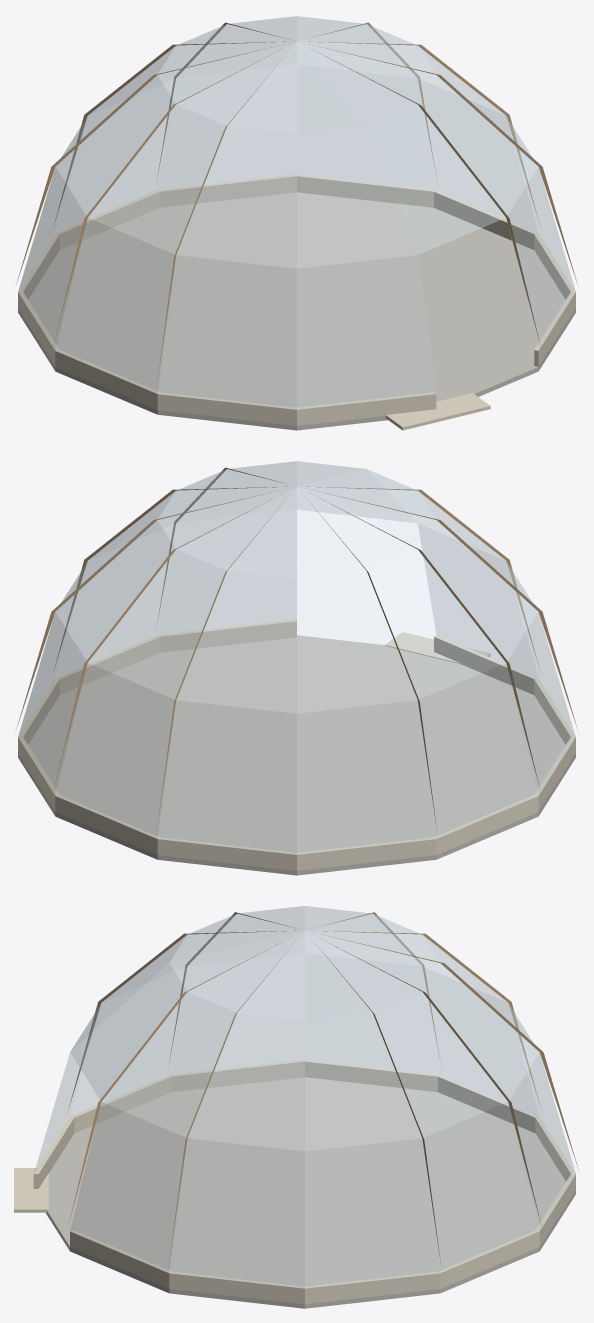
File: tropical-dome.lod2.glb
3 views of the same model, one above another, from view 1: azimuth 30°, elevation 25°; view 2: azimuth 150°, elevation 25°; view 3: azimuth 270°, elevation 25° (orthographic). The views are drawn at different scales.
Bounding box in the file's own units: 11.16 × 5.9 × 11.48.
